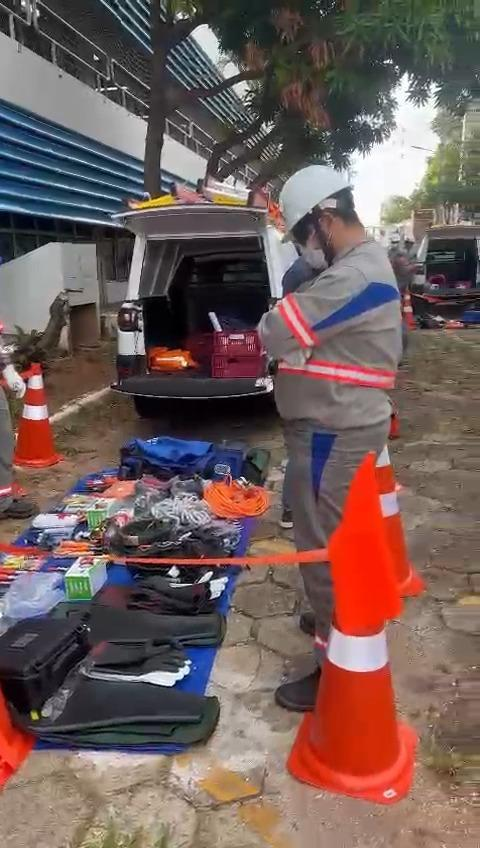Cone: (313, 462, 416, 808), (13, 360, 62, 467)
Goggles: (283, 218, 325, 245)
Helmet: (273, 160, 374, 262)
